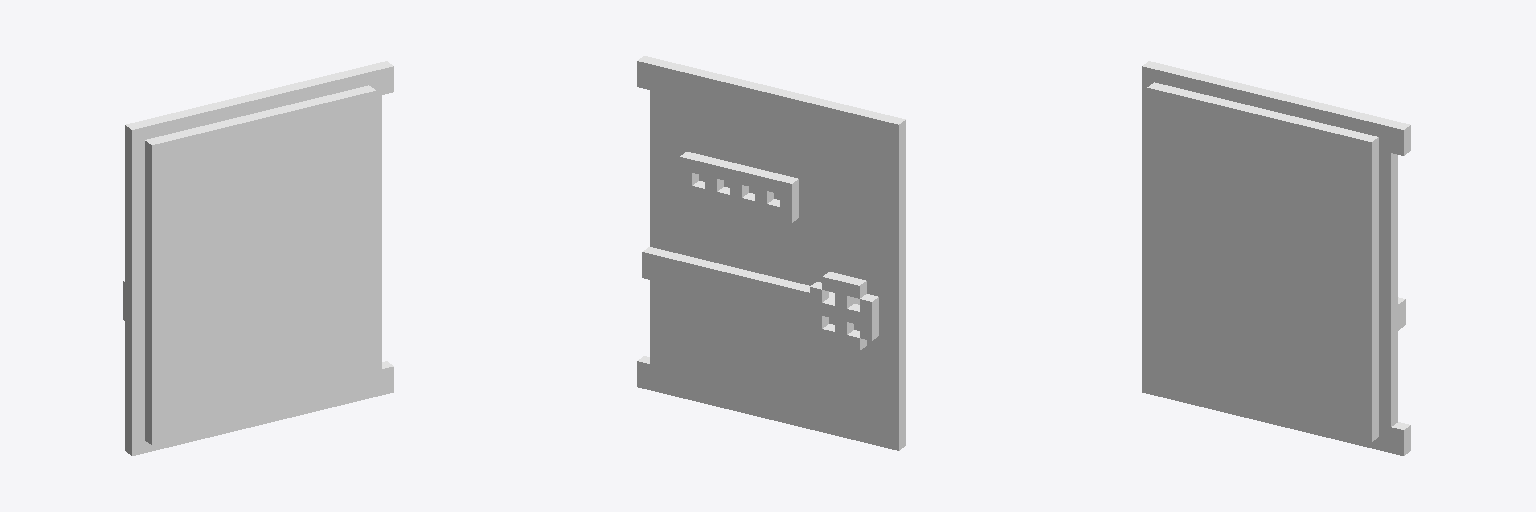
The model's file is porte_petit_coffre.obj.
The picture shows the model from 3 angles: view 1: azimuth 30°, elevation 25°; view 2: azimuth 150°, elevation 25°; view 3: azimuth 330°, elevation 25°; orthographic projection.
Visible parts, largest first — view 1: object 1; view 2: object 1; view 3: object 1.
Part boxes in pixels (bbox=[...]): object 1: bbox=[123, 61, 393, 455]; object 1: bbox=[637, 56, 905, 450]; object 1: bbox=[1142, 61, 1410, 455].
Size of the model in its own units: 2.1 by 2.5 by 0.4.